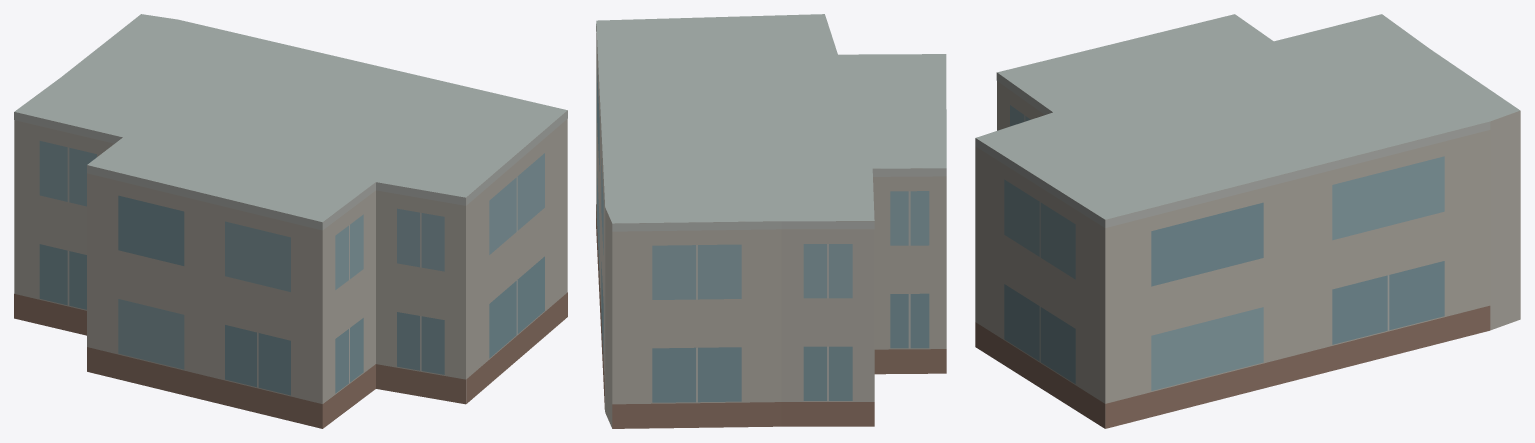
File: survey-upis-32774252.glb
3 views of the same model, side by side, from view 1: azimuth 30°, elevation 25°; view 2: azimuth 150°, elevation 25°; view 3: azimuth 270°, elevation 25° (orthographic).
Parts seen in each view (by area): view 1: survey-upis-32774252.tmp; view 2: survey-upis-32774252.tmp; view 3: survey-upis-32774252.tmp.
Boxes of the visible parts, box(x1,y1,x2,y2) form: survey-upis-32774252.tmp: box(14, 14, 567, 428); survey-upis-32774252.tmp: box(596, 14, 946, 428); survey-upis-32774252.tmp: box(975, 14, 1520, 428).
Size of the model in its own units: 12.89 by 6.1 by 14.42.
